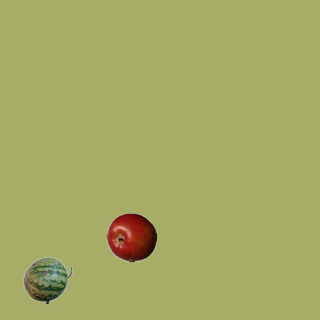Apple Braeburn: (106, 212, 156, 262)
Watermelon: (22, 255, 72, 305)
